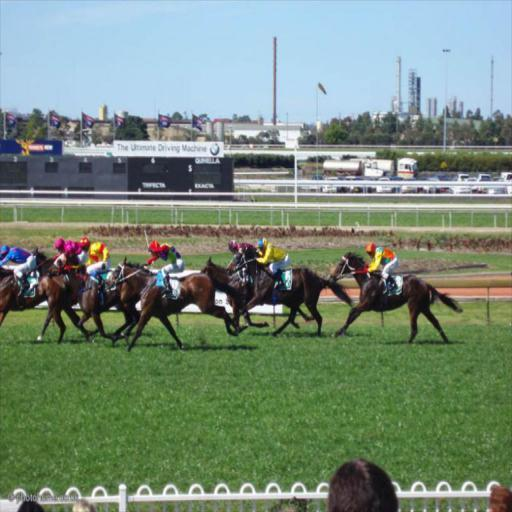horse: (0, 242, 356, 354), (327, 249, 466, 344)
